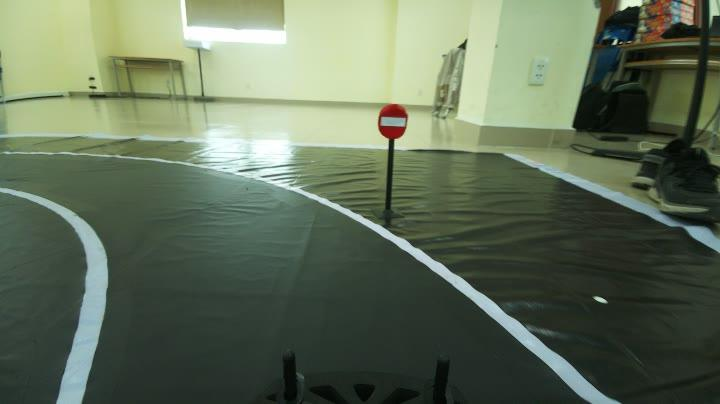no_entry: (368, 99, 410, 141)
